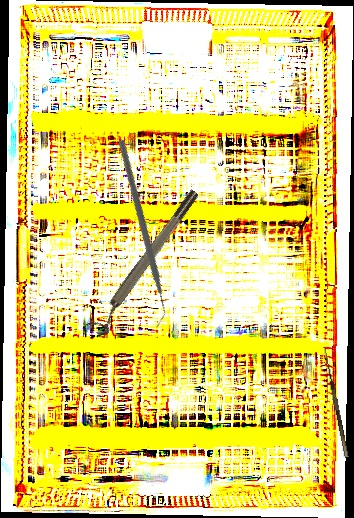Chopper: (42, 137, 236, 330)
Fixation Ring: (85, 187, 208, 339)
Hook Surgical: (317, 346, 349, 459)
